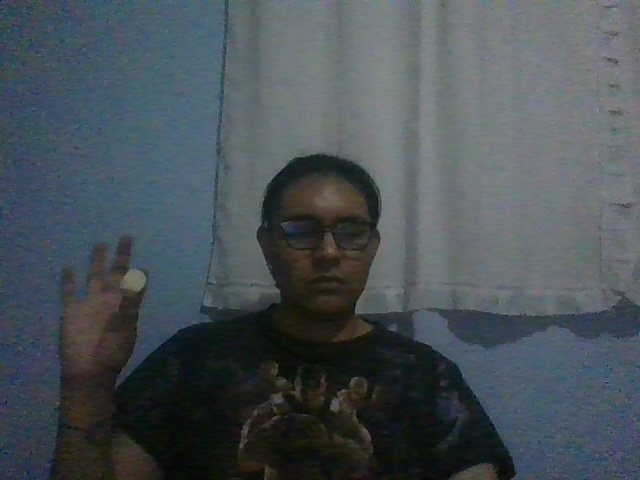goma: (117, 268, 147, 297)
